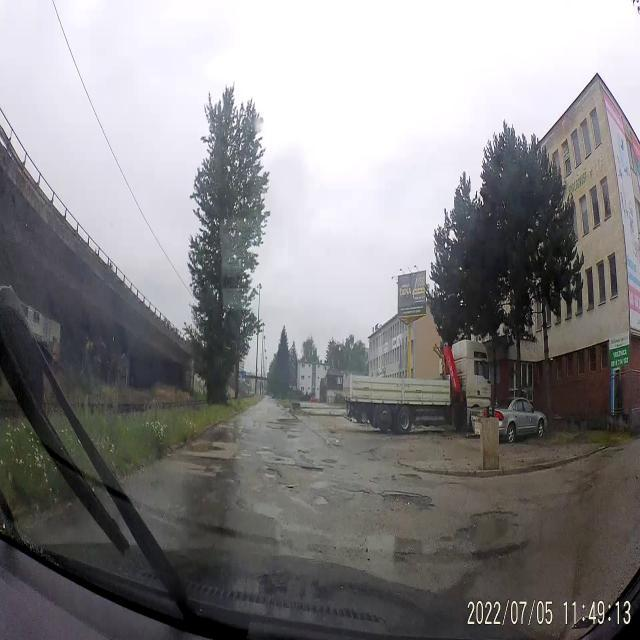Pothole: (452, 503, 522, 560), (378, 486, 436, 522), (395, 468, 427, 488), (296, 462, 326, 478), (263, 466, 284, 484), (313, 494, 332, 506), (284, 480, 298, 495)
